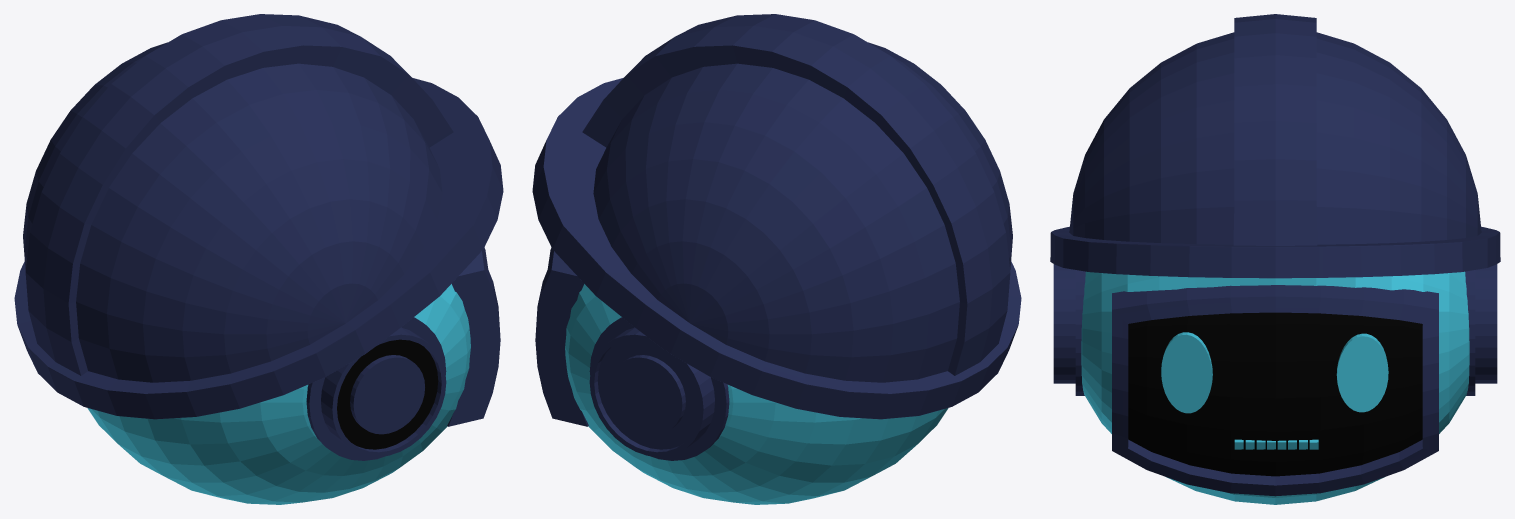
3 renders of one model, left to right at view 1: azimuth 30°, elevation 25°; view 2: azimuth 150°, elevation 25°; view 3: azimuth 270°, elevation 25°, orthographic. The views are drawn at different scales.
Visible parts, largest first — view 1: Sphere.105, head, Cylinder.081, face; view 2: Sphere.105, head, Cylinder.081, face; view 3: Sphere.105, Sphere.060, face, head, Cylinder.081, eye_l, eye_r.
Boxes of the visible parts, x1,y1,x2,y2 form: Sphere.105: (14, 14, 503, 419); head: (87, 284, 470, 504); Cylinder.081: (306, 317, 446, 460); face: (447, 247, 500, 426); Sphere.105: (532, 14, 1021, 419); head: (565, 284, 948, 504); Cylinder.081: (589, 317, 729, 460); face: (535, 247, 588, 426); Sphere.105: (1050, 14, 1500, 278); Sphere.060: (1128, 312, 1422, 476); face: (1112, 285, 1438, 496); head: (1081, 271, 1469, 504); Cylinder.081: (1053, 264, 1497, 395); eye_l: (1161, 332, 1212, 413); eye_r: (1336, 333, 1388, 412).
Bounding box in the file's own units: 6.42 × 6.57 × 6.14.
